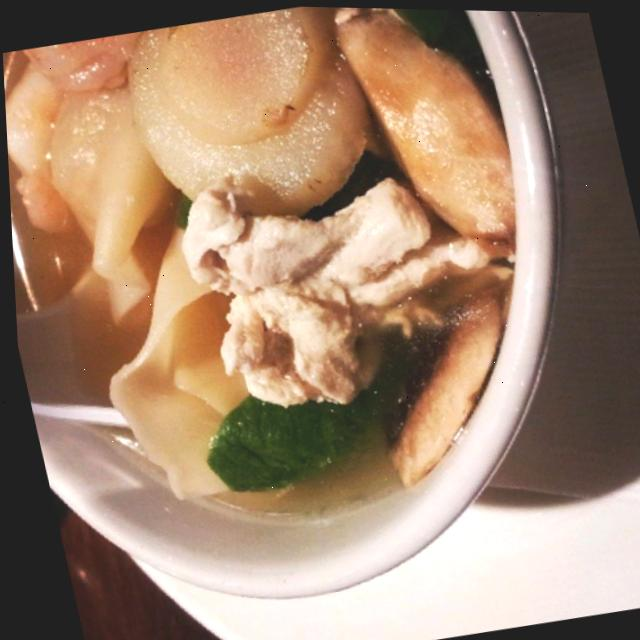汤锅炖物: (0, 0, 573, 563)
